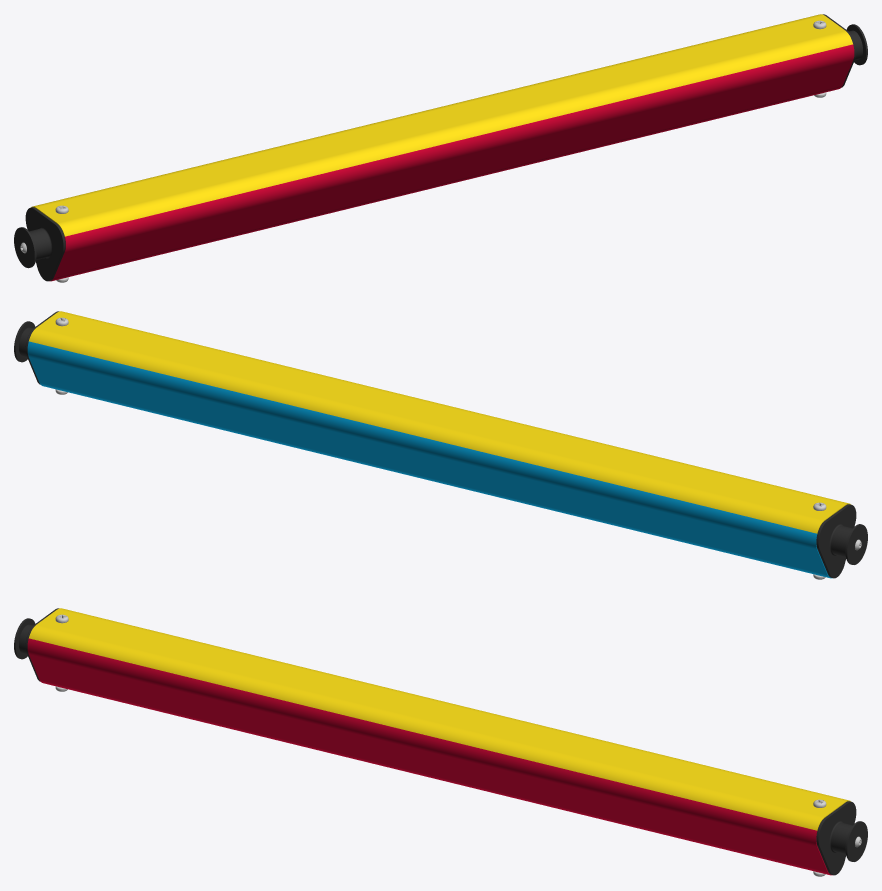
File: V5RC-Override-H2H-_-Toggle.glb
3 views of the same model, one above another, from view 1: azimuth 30°, elevation 25°; view 2: azimuth 150°, elevation 25°; view 3: azimuth 330°, elevation 25° (orthographic).
Visible parts, largest first — view 1: V5RC-Override-H2H-_-Toggle; view 2: V5RC-Override-H2H-_-Toggle; view 3: V5RC-Override-H2H-_-Toggle.
Part boxes in pixels (box(x1,y1,x2,y2)): V5RC-Override-H2H-_-Toggle: box(14, 14, 867, 282); V5RC-Override-H2H-_-Toggle: box(14, 311, 867, 579); V5RC-Override-H2H-_-Toggle: box(14, 608, 867, 876).
Size of the model in its own units: 0.698 by 0.0584 by 0.0557.
